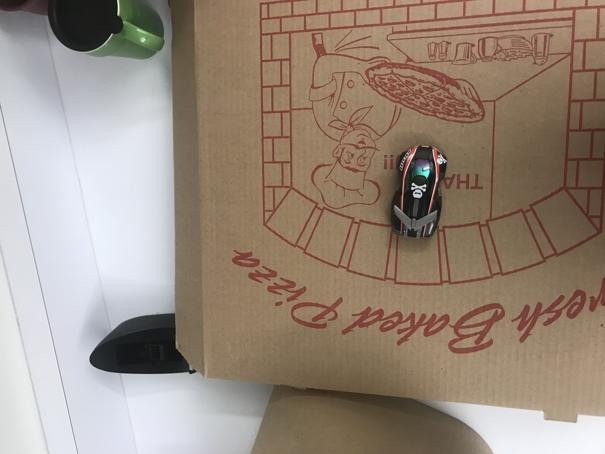Skull: (390, 146, 449, 238)
